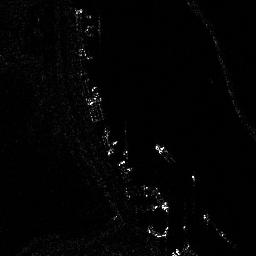ship: (203, 214, 235, 247), (153, 143, 179, 168)
